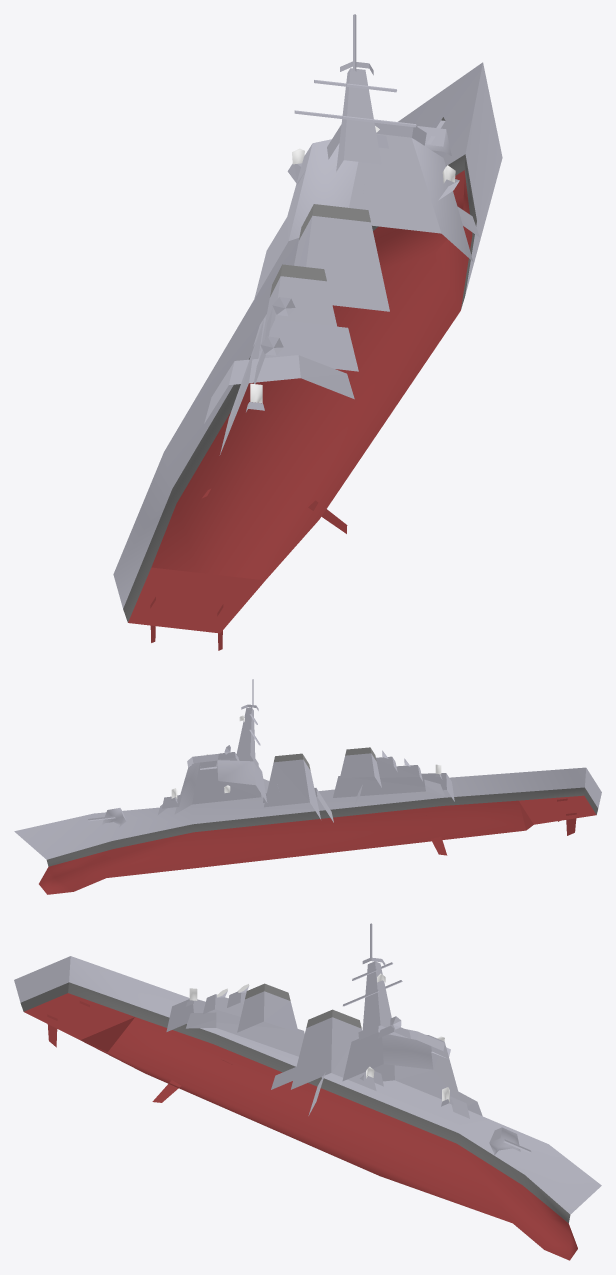
File: ps2_save-icons_aegis2035.glb
3 renders of one model, top to bottom at view 1: azimuth 30°, elevation 25°; view 2: azimuth 150°, elevation 25°; view 3: azimuth 270°, elevation 25°, orthographic. The views are drawn at different scales.
Visible parts, largest first — view 1: icon1.ico; view 2: icon1.ico; view 3: icon1.ico.
Boxes of the visible parts, box(x1,y1,x2,y2) form: icon1.ico: box(113, 14, 502, 650); icon1.ico: box(14, 679, 601, 894); icon1.ico: box(14, 923, 601, 1260).
Bounding box in the file's own units: 4.23 × 2.01 × 4.23.
Materials: 1 (1 with a texture image).
